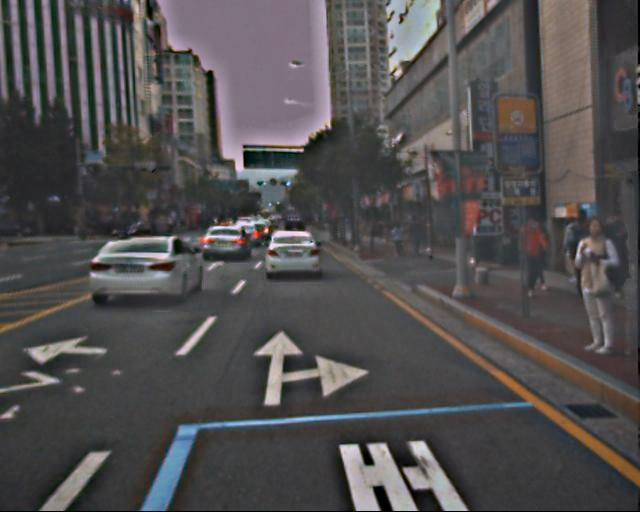person: (561, 216, 620, 360), (559, 211, 631, 287), (513, 217, 547, 300), (408, 215, 424, 255), (391, 221, 406, 258)
